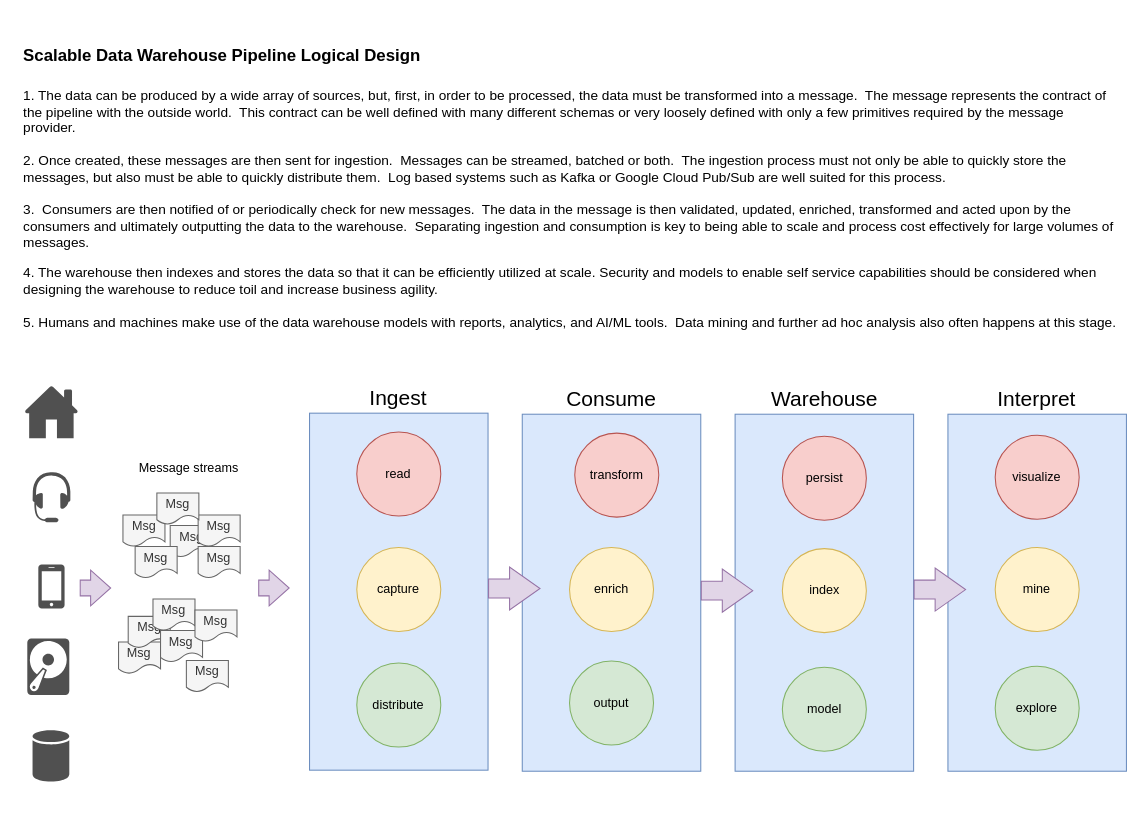
This 1145x821 diagram has some shape labels left out. The shapes that lost their labels are listed below. From the top down, each one's centre as x and y in pixels, then its label:
the point at 51,411: IoT Device
the point at 51,496: AV Stream
the point at 51,586: App
the point at 48,666: Cron
the point at 50,755: Database
